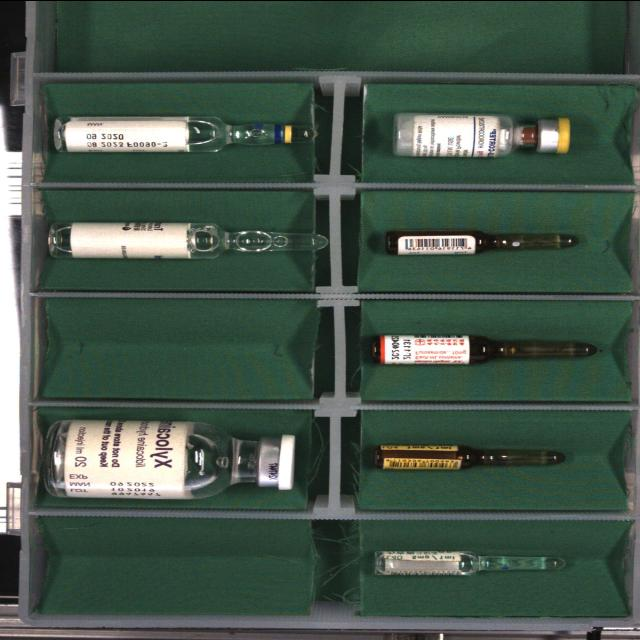Vials: (44, 419, 295, 498), (393, 112, 571, 157)
